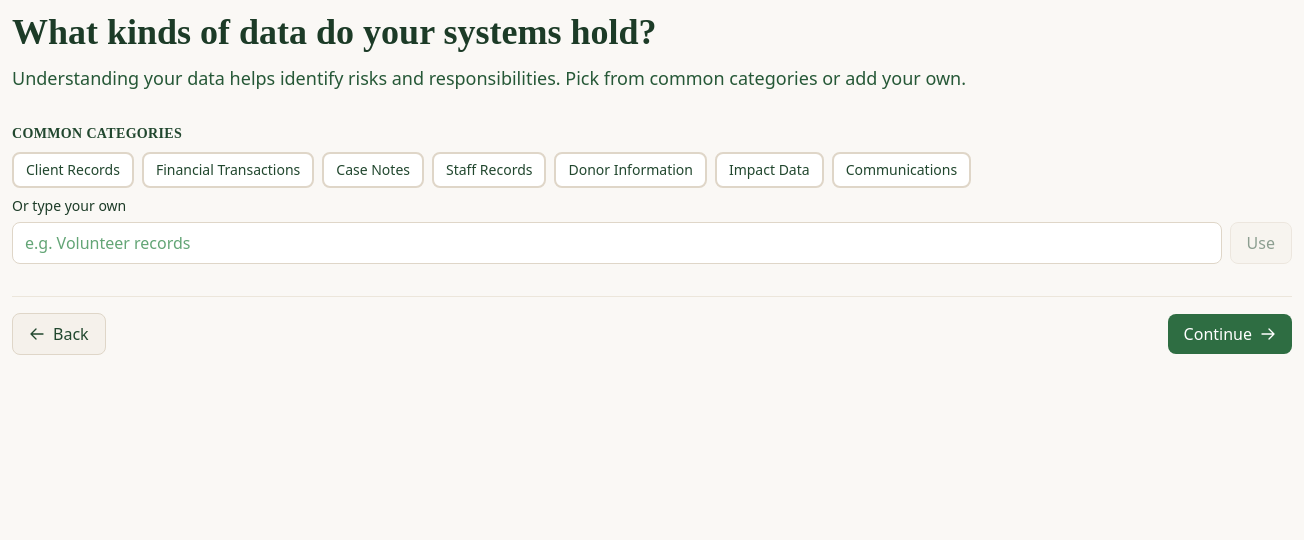
Test case: DataForm › can add a custom category
Type "Volunteer records" into the field labelled "Or type your own" at (617, 243), box [12,222,1222,264]
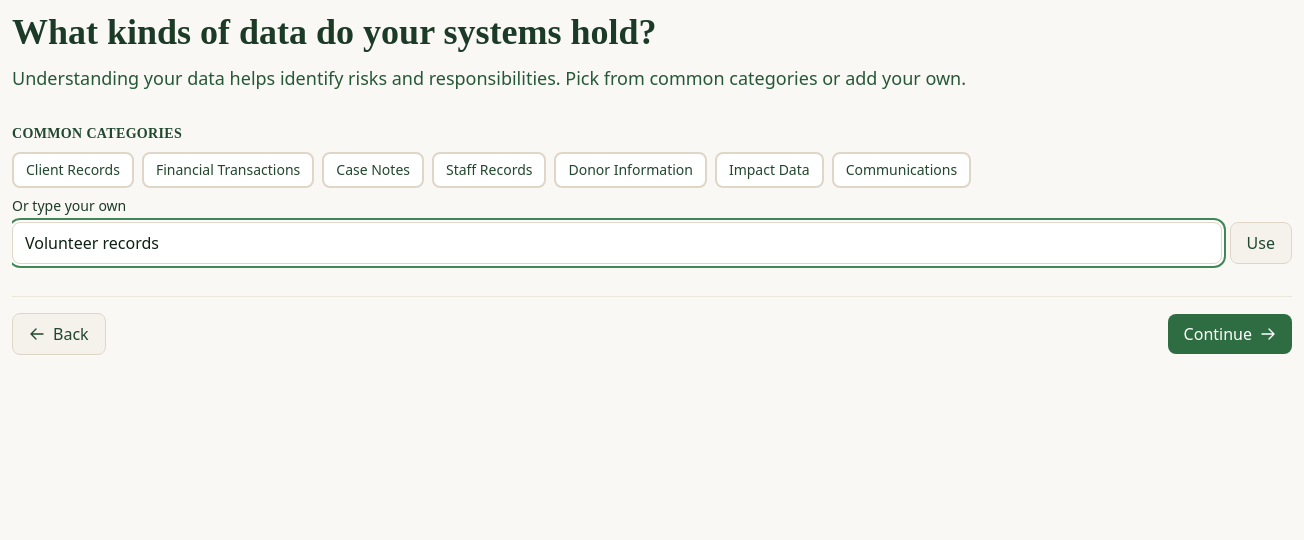
Click the button "Use" at (1261, 243), box [1230,222,1292,264]
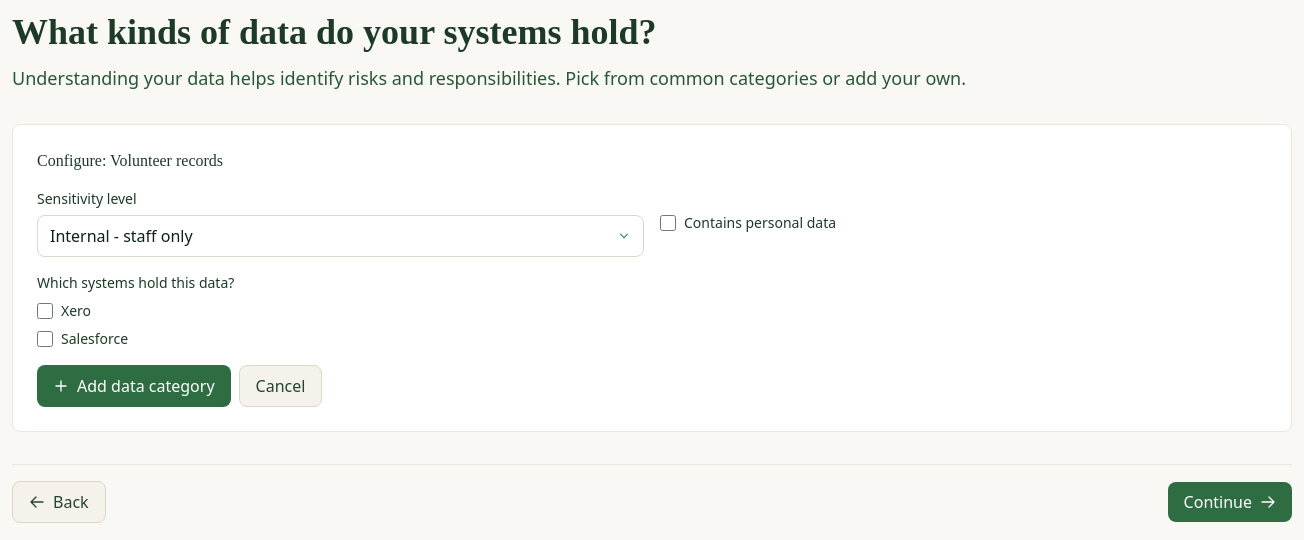
Expected: the heading "Configure: Volunteer records" is shown, [37,152,223,169]
